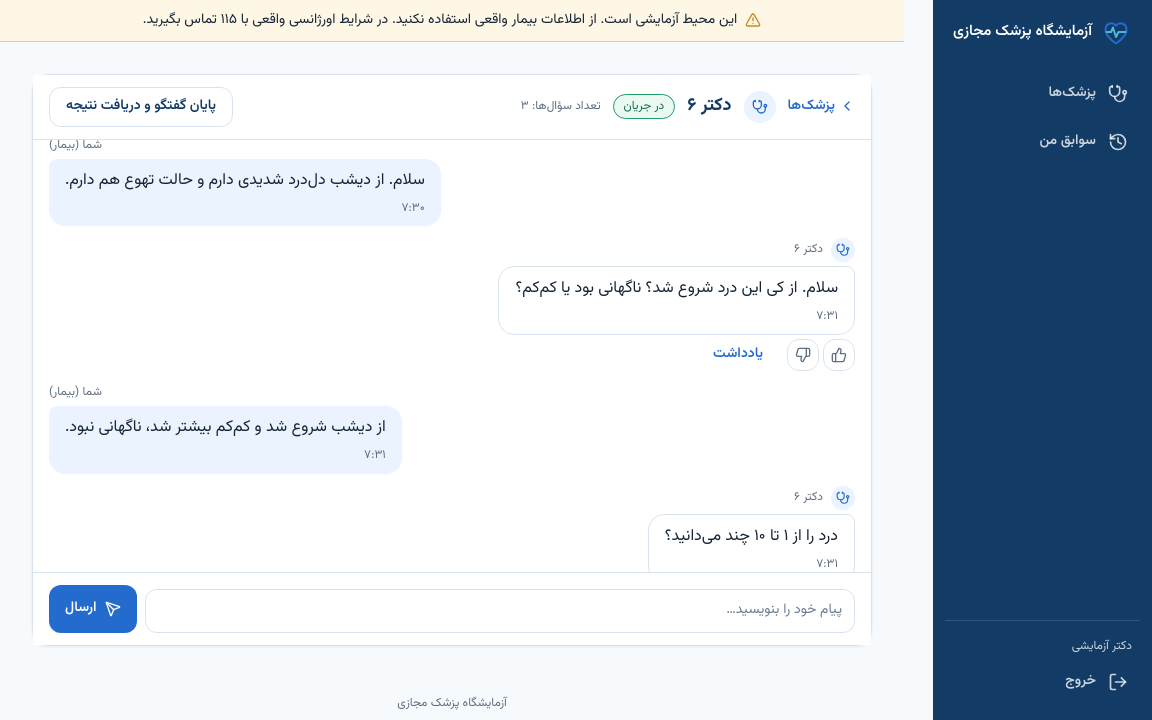
Test: per-message feedback › offers the note field but blocks saving until a rating is chosen
(page scrolled)
Expected: the text "تعداد سؤال‌ها: ۳" is shown, [521, 97, 601, 116]
Click the button "یادداشت".
click(738, 355)  # box [697, 339, 779, 371]
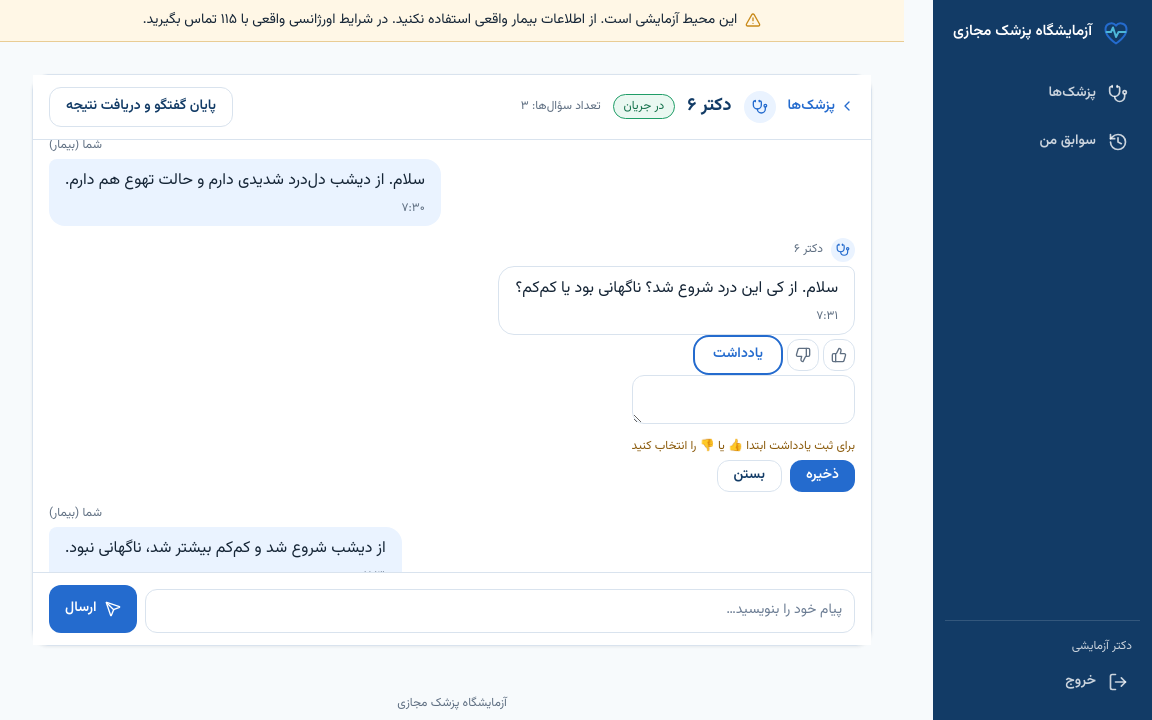
Expected: the button "ذخیره" is disabled, [790, 460, 855, 492]
Expected: the button "بستن" is shown, [717, 460, 782, 492]
